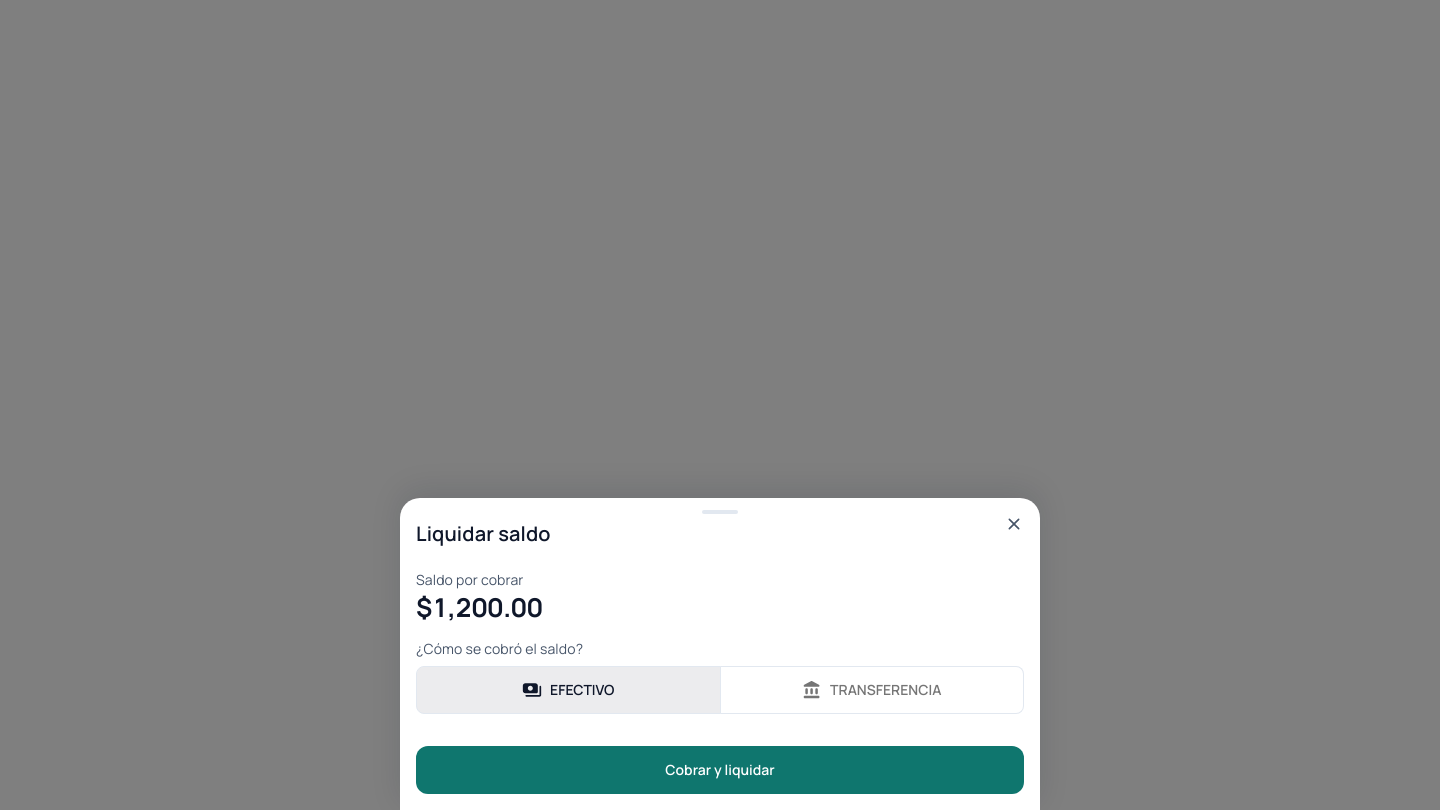
Scenario: SettleSheet › a transfer requires its bank reference (US-AG41) › reveals the reference field only after Transferencia is picked
The image size is (1440, 810).
Expected: the field labelled "Referencia de la transferencia" is not shown
Click the button "Transferencia": (872,690) [720,666,1024,714]
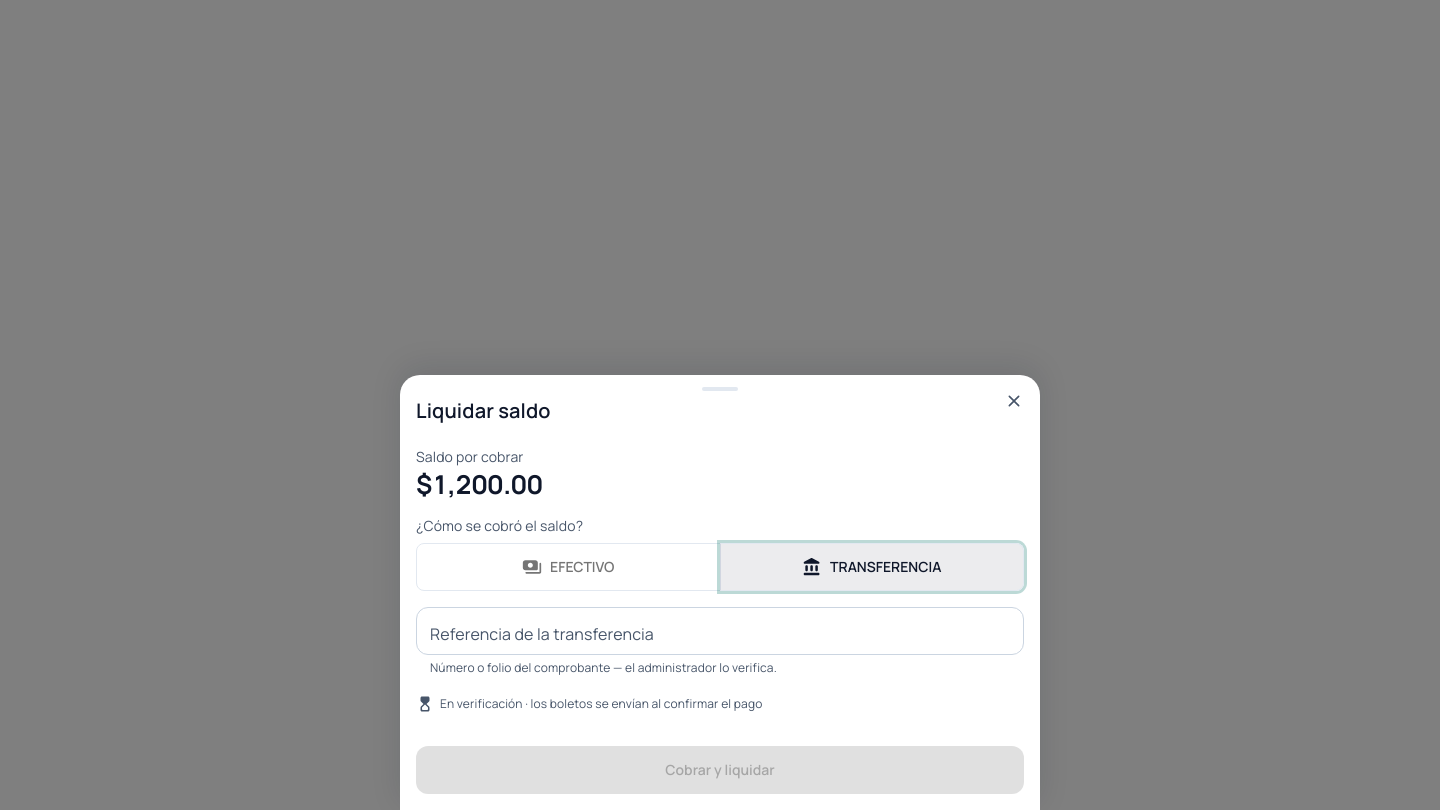
Now the field labelled "Referencia de la transferencia" is shown, box [416,607,1024,655]
